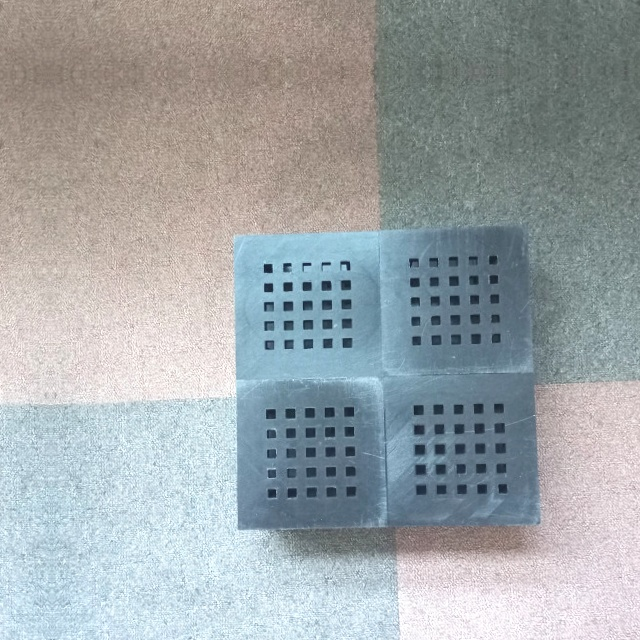pallet: (233, 221, 542, 541)
